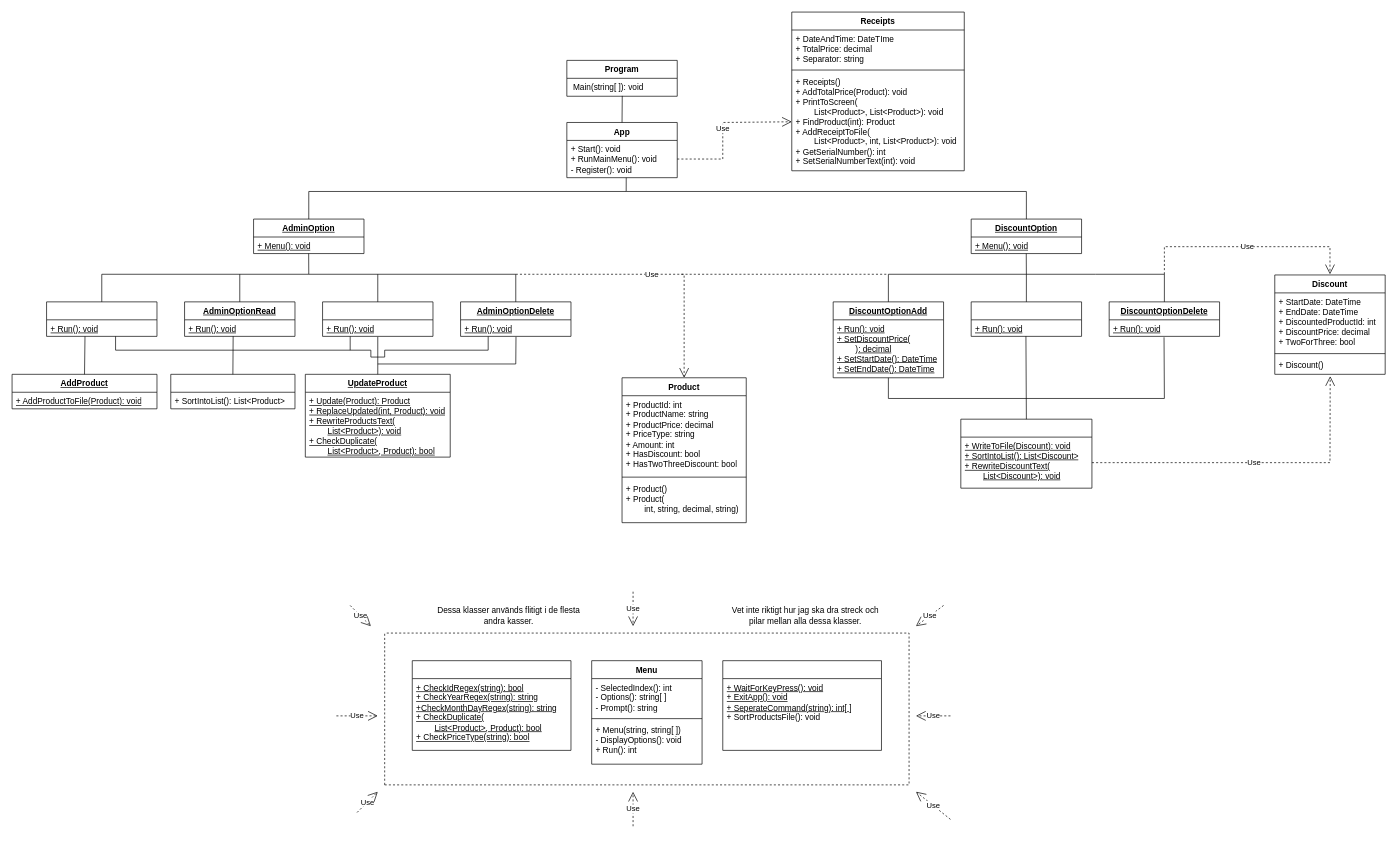
Some shapes in this 1397 by 848 pixel diagram are drawn without their labels. Here are the shapes that lost their labels. From the top down, the box of each, then its label:
(46, 301, 157, 336): AdminOptionAdd
(322, 301, 433, 336): AdminOptionUpdate
(970, 301, 1082, 336): DiscountOptionRead
(170, 374, 295, 409): ReadProduct
(960, 418, 1092, 488): DiscountService
(412, 660, 571, 750): ErrorHandling
(722, 660, 881, 750): Utility
